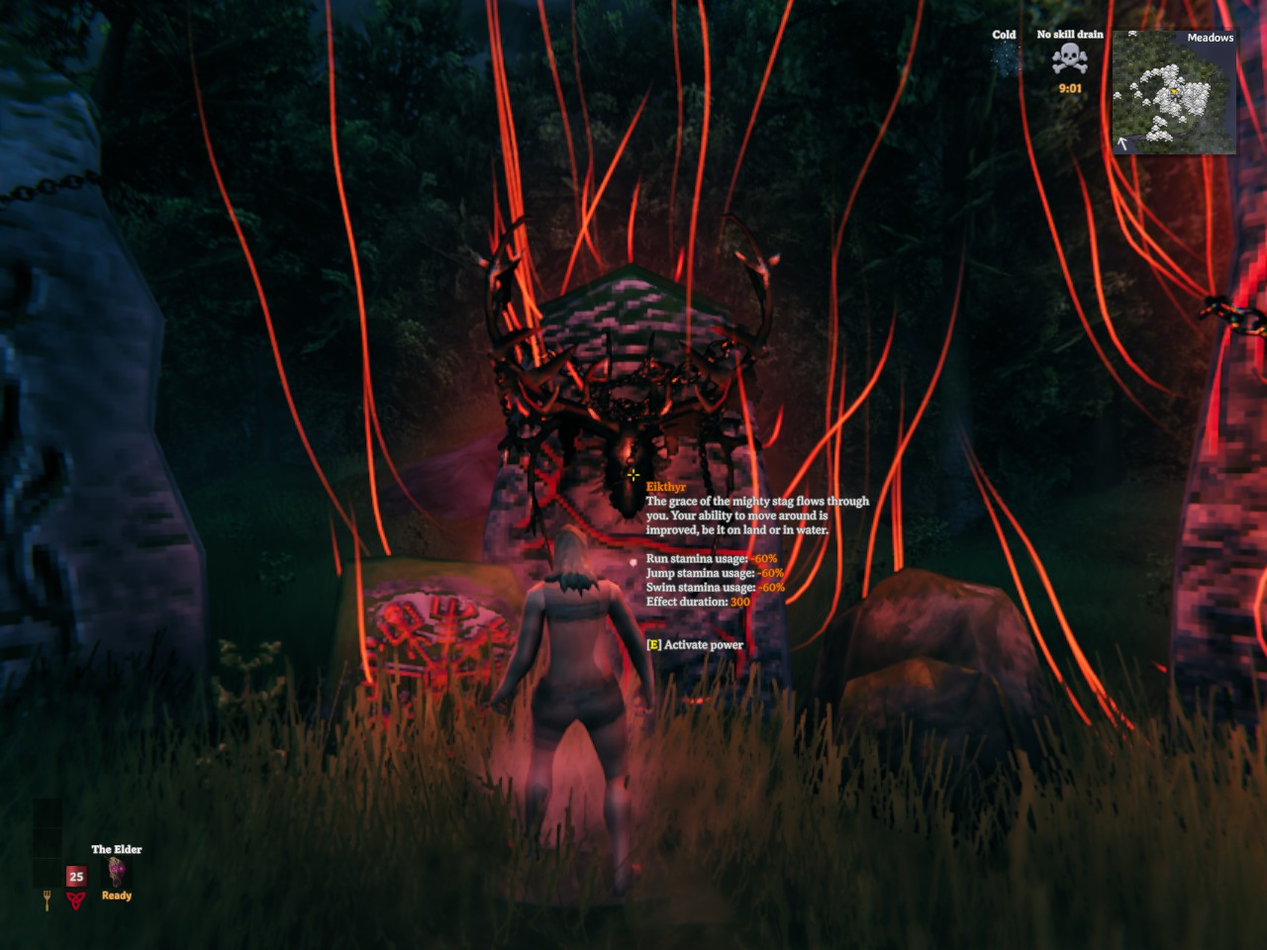Rune Stone: (332, 557, 522, 694)
